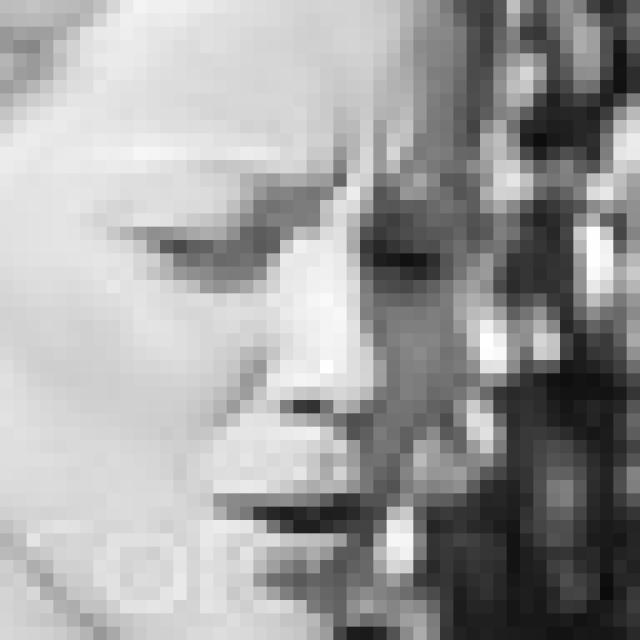disgust: (77, 105, 465, 596)
